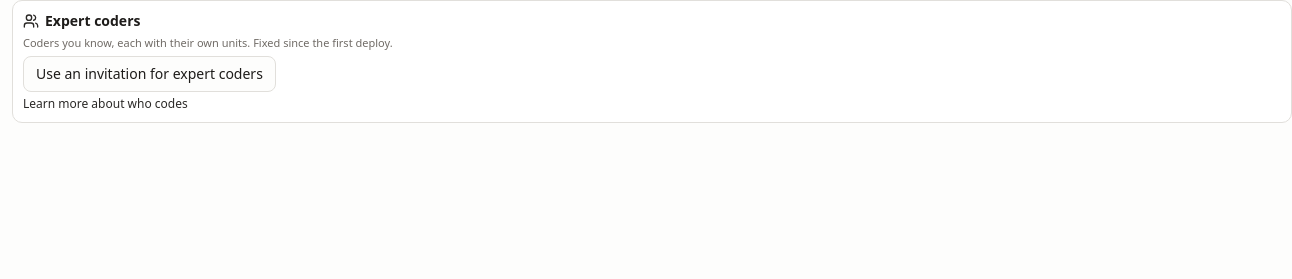
Test: the invitation form › fixed, with an invitation for the other kind or none: not its options, and a button for the study's kind
Later steps or results of the test are not shown.
Expected: the field labelled "A link per coder" is not shown
Click the button "Use an invitation for expert coders": point(149, 74) [23,56,276,92]
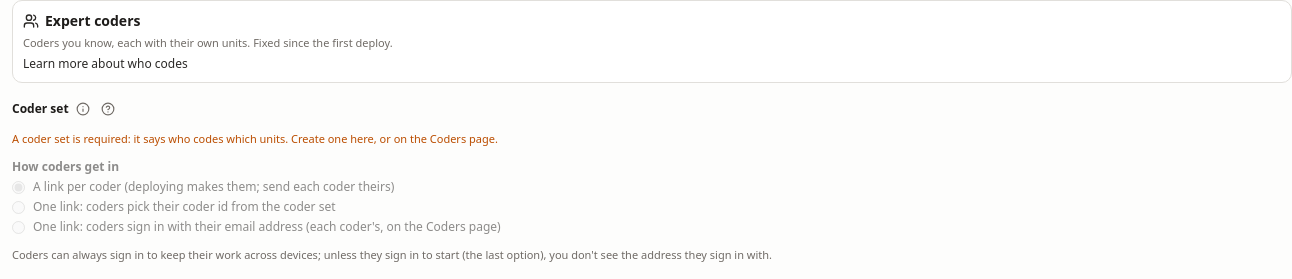
Expected: the button "Use an invitation for expert coders" is gone
